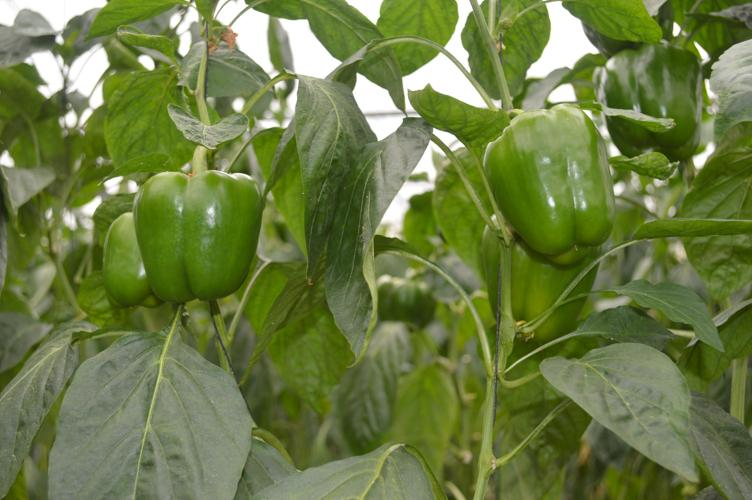BellPepper: (482, 97, 626, 267), (128, 163, 272, 317), (600, 39, 710, 171), (91, 206, 171, 320)
